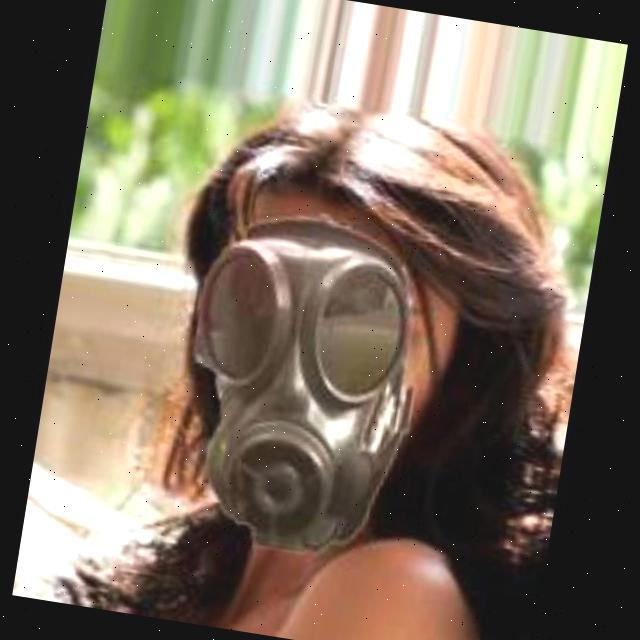suspicion: (143, 127, 490, 591)
